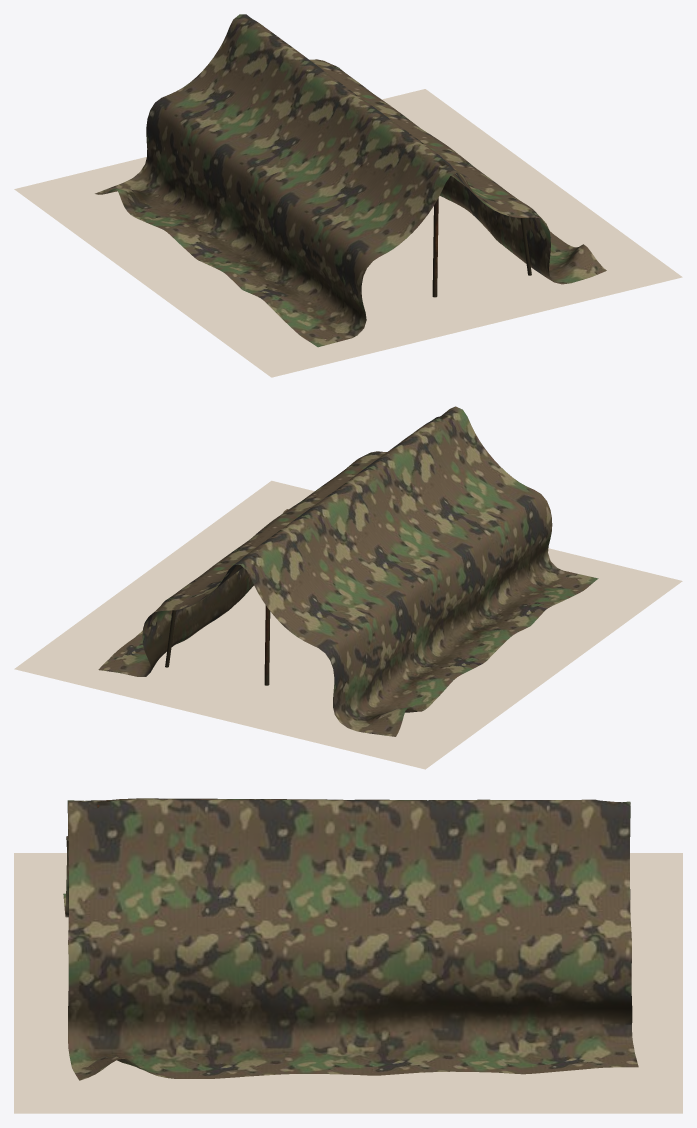
The model's file is market_tent.glb.
3 views of the same model, one above another, from view 1: azimuth 30°, elevation 25°; view 2: azimuth 150°, elevation 25°; view 3: azimuth 270°, elevation 25° (orthographic). The views are drawn at different scales.
Visible parts, largest first — view 1: 02_02_0, 01_01_0; view 2: 02_02_0, 01_01_0; view 3: 02_02_0, 01_01_0.
Part boxes in pixels (left/top/right/bottom): 02_02_0: left=95, top=14, right=606, bottom=347; 01_01_0: left=14, top=89, right=682, bottom=377; 02_02_0: left=98, top=406, right=598, bottom=736; 01_01_0: left=14, top=480, right=682, bottom=769; 02_02_0: left=63, top=798, right=638, bottom=1080; 01_01_0: left=14, top=853, right=682, bottom=1113.
Size of the model in its own units: 6.14 by 2.07 by 6.66.
Materials: 2 (1 with a texture image).
